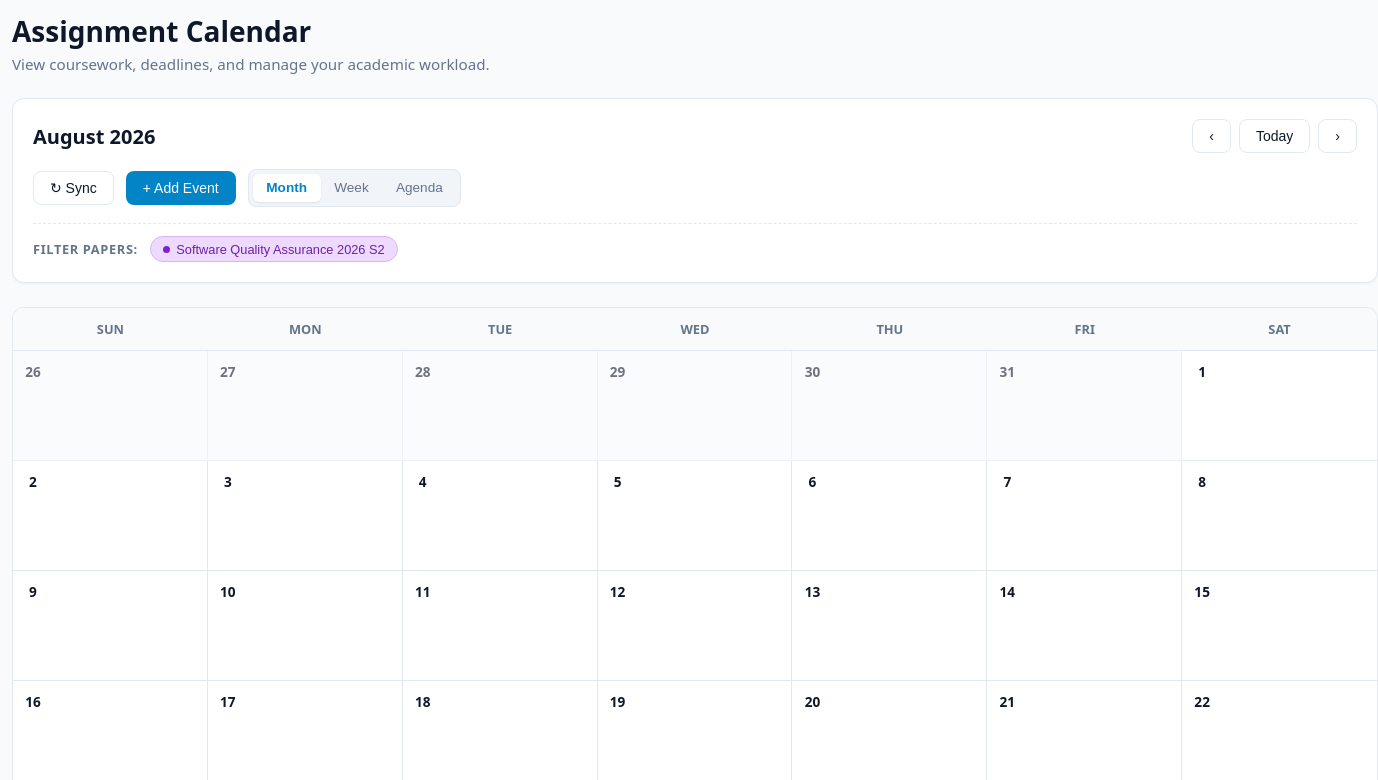
Test case: Calendar - views (FR-04) › TC-34: shows the assignment in Week view when its due date falls in the displayed week
The width and height of the screenshot is (1378, 780).
Click the button "Week".
click(351, 188)  # box [321,174,382,202]
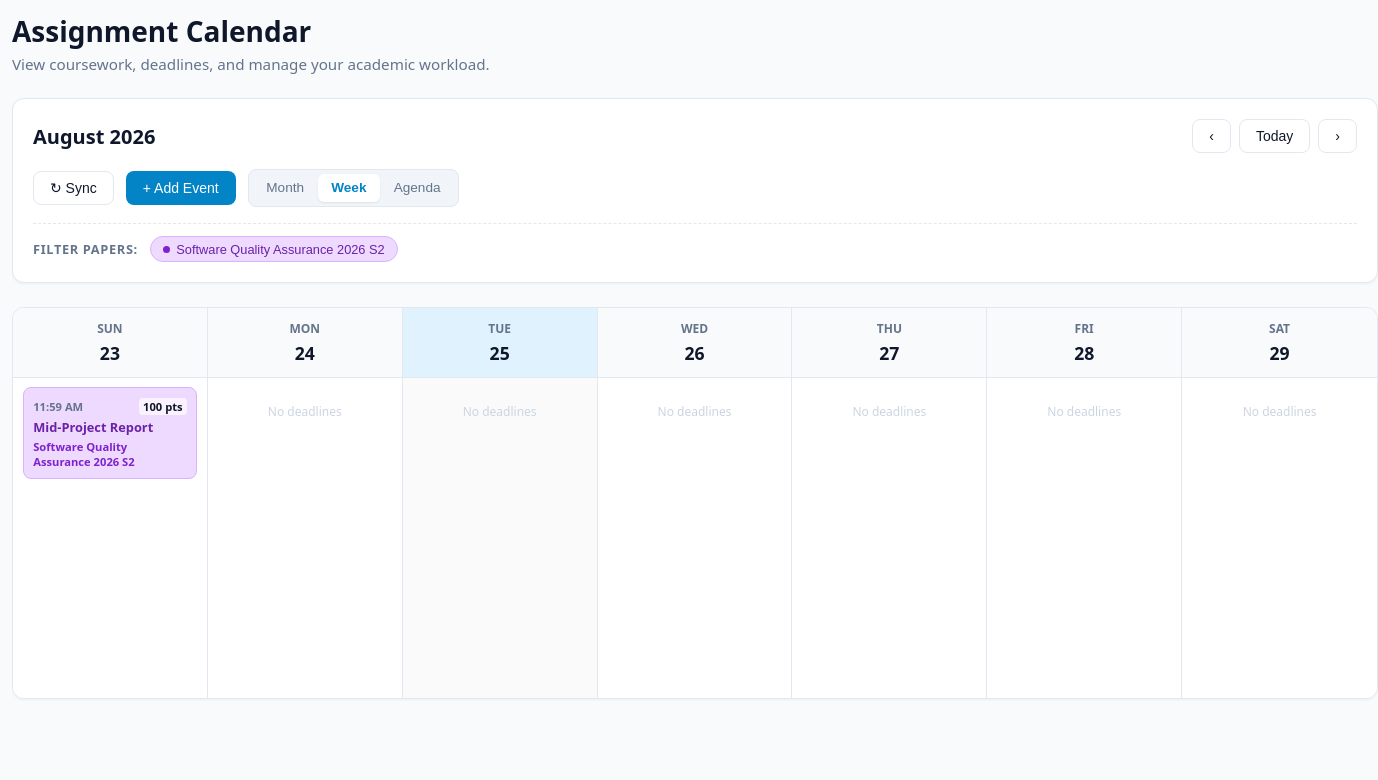
Check: the text "100 pts" is shown, box [139,398,187,415]
